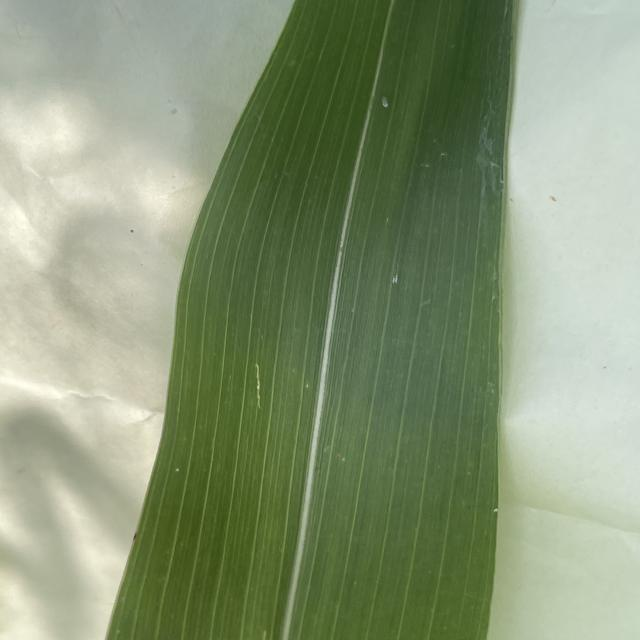millet_healthy: (101, 0, 502, 640)
